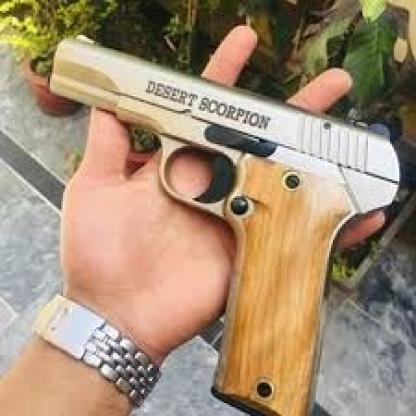Pistol: (43, 32, 409, 414)
